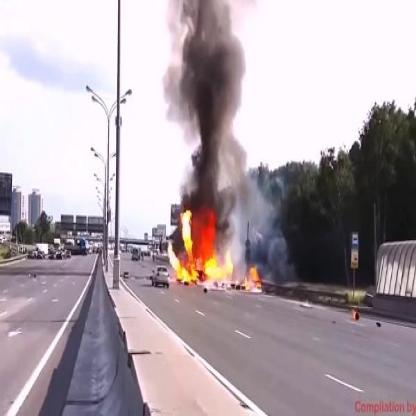fire: (167, 205, 235, 291), (243, 265, 261, 293)
